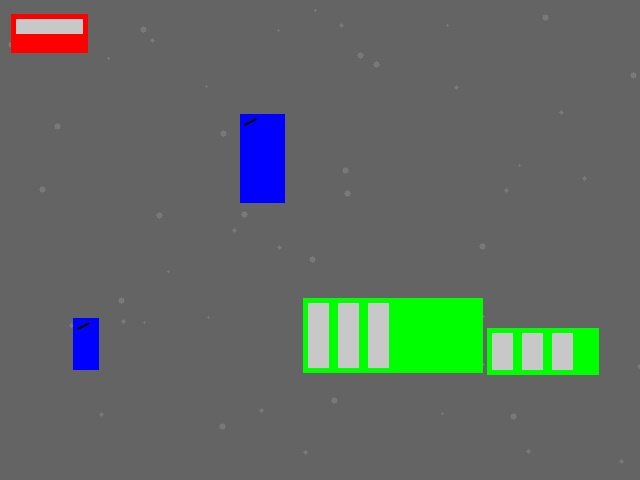bus: (303, 298, 482, 372), (487, 328, 598, 374)
car: (11, 14, 87, 52)
motorcycle: (240, 114, 284, 202), (73, 318, 98, 369)
